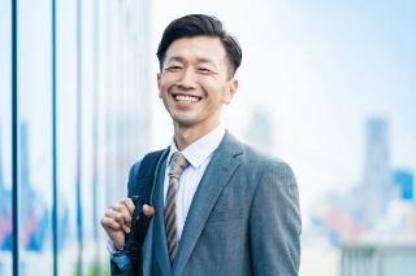person: (97, 10, 306, 276)
